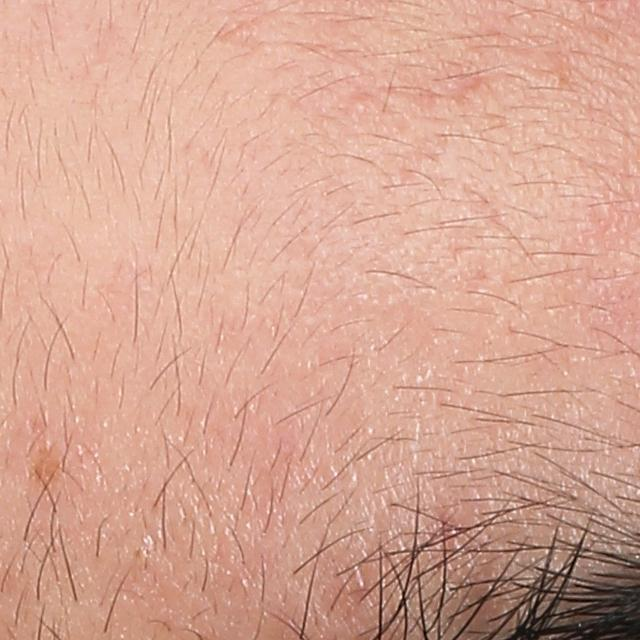comedo: (351, 97, 371, 118)
